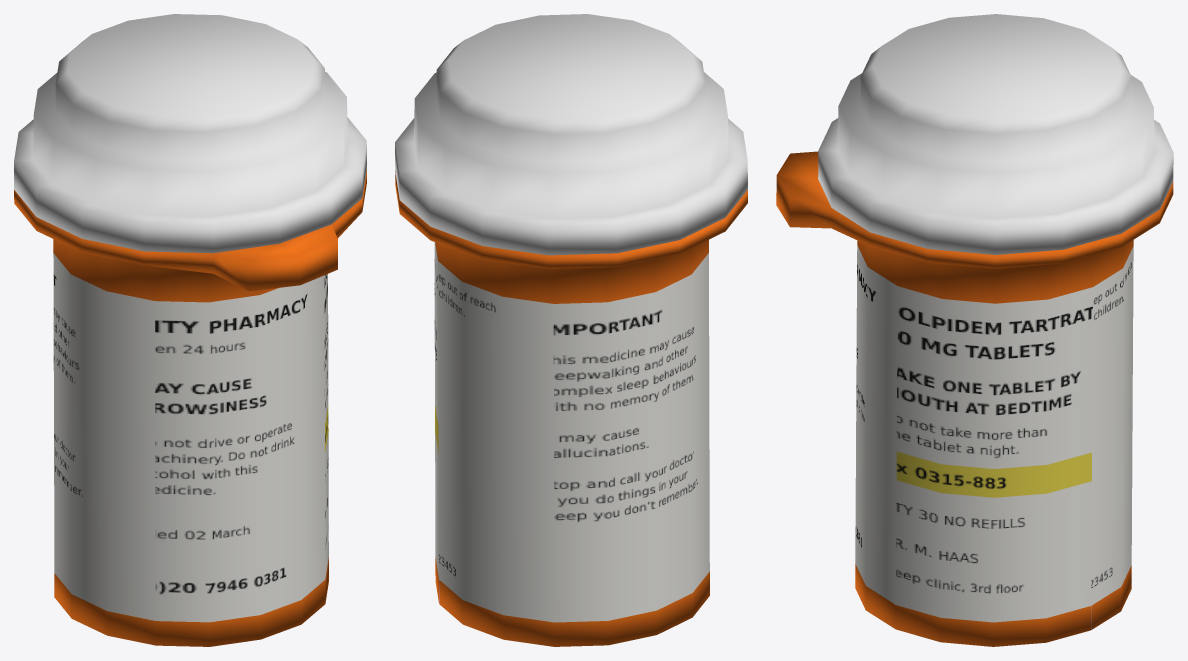
Rendered from pills.glb.
3 renders of one model, left to right at view 1: azimuth 30°, elevation 25°; view 2: azimuth 150°, elevation 25°; view 3: azimuth 270°, elevation 25°, orthographic.
Parts seen in each view (by area): view 1: Cylinder.003_Material.023_0, Cylinder.002_Material.023_0; view 2: Cylinder.003_Material.023_0, Cylinder.002_Material.023_0; view 3: Cylinder.003_Material.023_0, Cylinder.002_Material.023_0.
Part boxes in pixels (<box>): Cylinder.003_Material.023_0: <box>14,170,366,646</box>; Cylinder.002_Material.023_0: <box>14,14,366,253</box>; Cylinder.003_Material.023_0: <box>395,171,747,646</box>; Cylinder.002_Material.023_0: <box>395,14,747,255</box>; Cylinder.003_Material.023_0: <box>776,151,1173,646</box>; Cylinder.002_Material.023_0: <box>818,14,1173,254</box>.
Bounding box in the file's own units: 0.0461 × 0.075 × 0.0516.
Materials: 1 (1 with a texture image).
